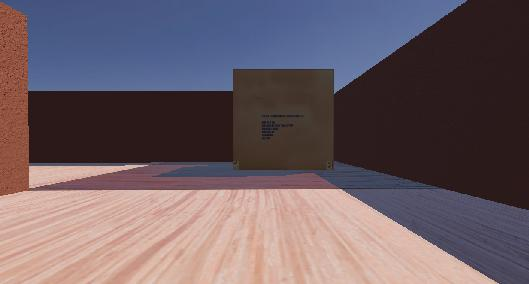CardboardBox: (227, 60, 343, 178)
